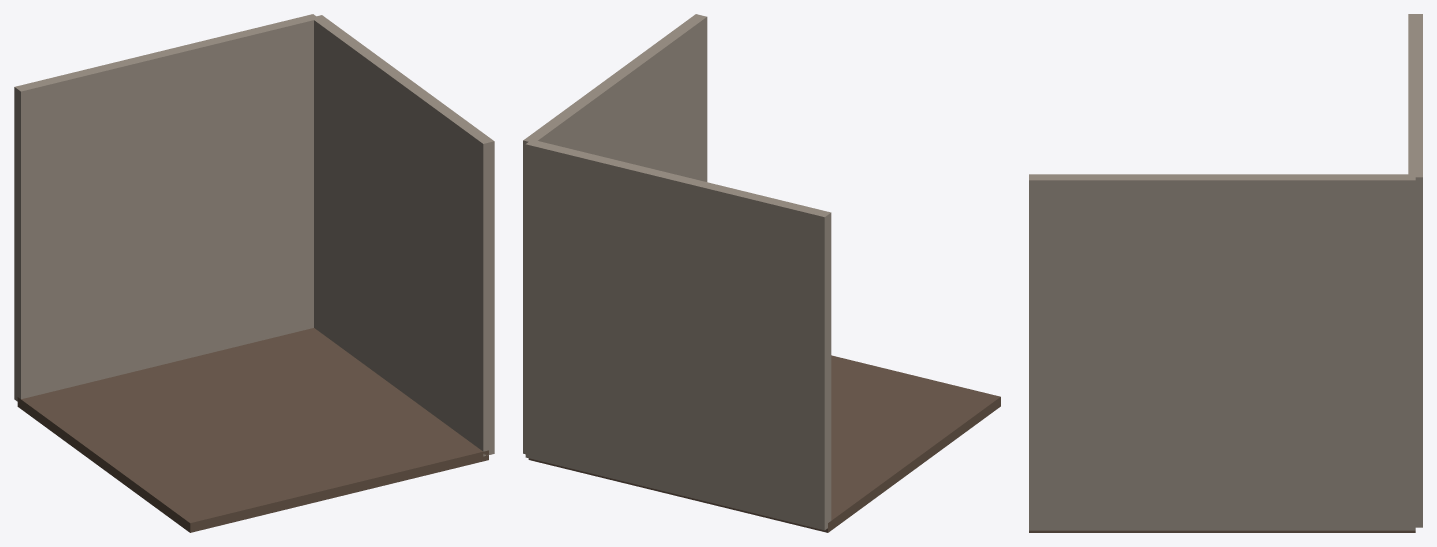
File: hallway_lturn.fbx
3 renders of one model, left to right at view 1: azimuth 30°, elevation 25°; view 2: azimuth 150°, elevation 25°; view 3: azimuth 270°, elevation 25°, orthographic. The views are drawn at different scales.
Parts seen in each view (by area): view 1: Wall_Outer_North, Wall_Outer_East, Floor; view 2: Wall_Outer_North, Wall_Outer_East, Floor; view 3: Wall_Outer_East, Wall_Outer_North, Floor.
Part boxes in pixels (bbox=[...]): Wall_Outer_North: bbox=[14, 14, 318, 401]; Wall_Outer_East: bbox=[311, 15, 494, 456]; Floor: bbox=[17, 328, 488, 532]; Wall_Outer_North: bbox=[525, 140, 831, 530]; Wall_Outer_East: bbox=[523, 14, 707, 454]; Floor: bbox=[528, 355, 1000, 532]; Wall_Outer_East: bbox=[1029, 174, 1415, 530]; Wall_Outer_North: bbox=[1408, 14, 1422, 527]; Floor: bbox=[1029, 530, 1415, 532].
Bounding box in the file's own units: 16.3 × 16.25 × 16.3.
